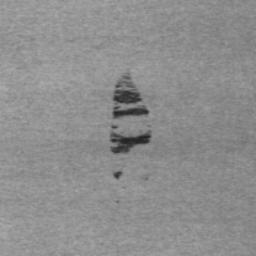Secondary rust skin: (111, 74, 150, 119), (109, 129, 153, 155)
